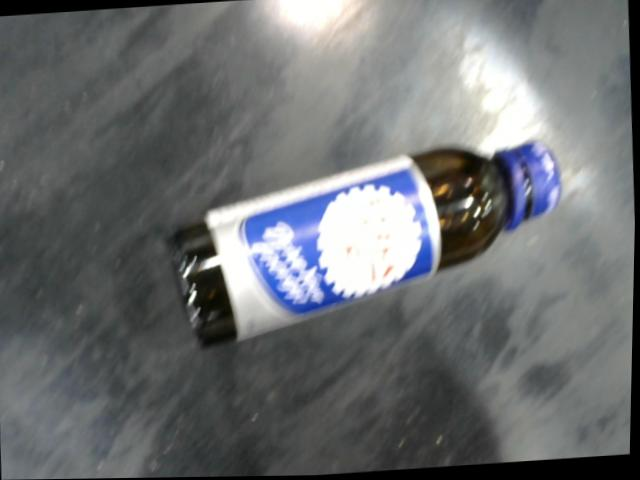glass: (166, 138, 564, 351)
